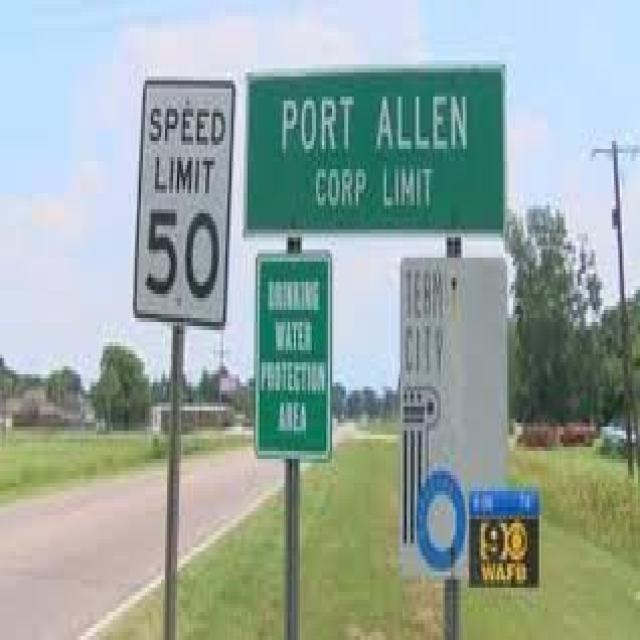speedLimit50: (139, 77, 236, 326)
